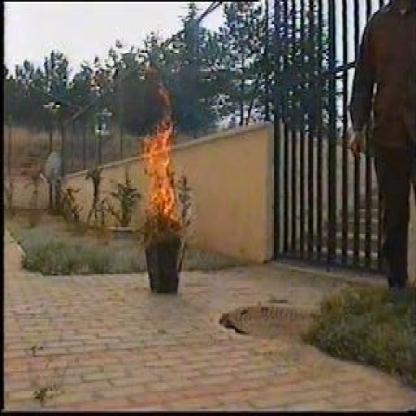foggia-v2-map80-epoch100 - v1 4323: (143, 90, 179, 224)
